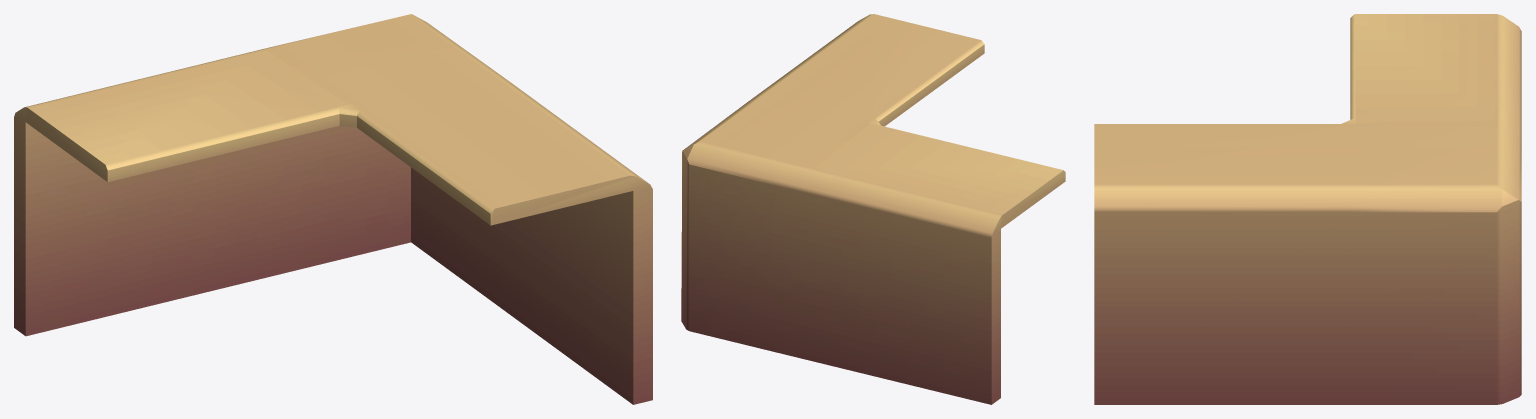
File: Desk_02.fbx
3 views of the same model, side by side, from view 1: azimuth 30°, elevation 25°; view 2: azimuth 150°, elevation 25°; view 3: azimuth 270°, elevation 25° (orthographic). The views are drawn at different scales.
Visible parts, largest first — view 1: Desk_02; view 2: Desk_02; view 3: Desk_02.
Boxes of the visible parts, box(x1,y1,x2,y2) form: Desk_02: box(14, 14, 652, 404); Desk_02: box(681, 14, 1065, 404); Desk_02: box(1094, 14, 1521, 404).
Size of the model in its own units: 2.5 by 1.35 by 2.5.
Materials: 1 (1 with a texture image).
